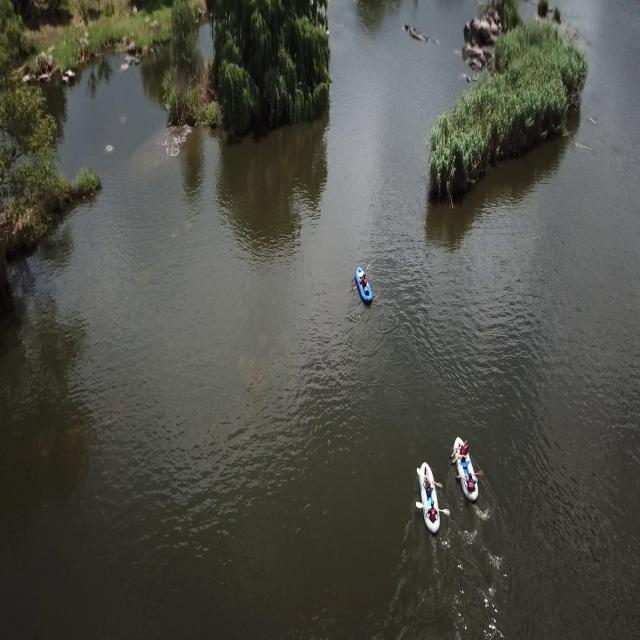kayak: (414, 453, 450, 538), (450, 429, 485, 508), (351, 258, 374, 308)
